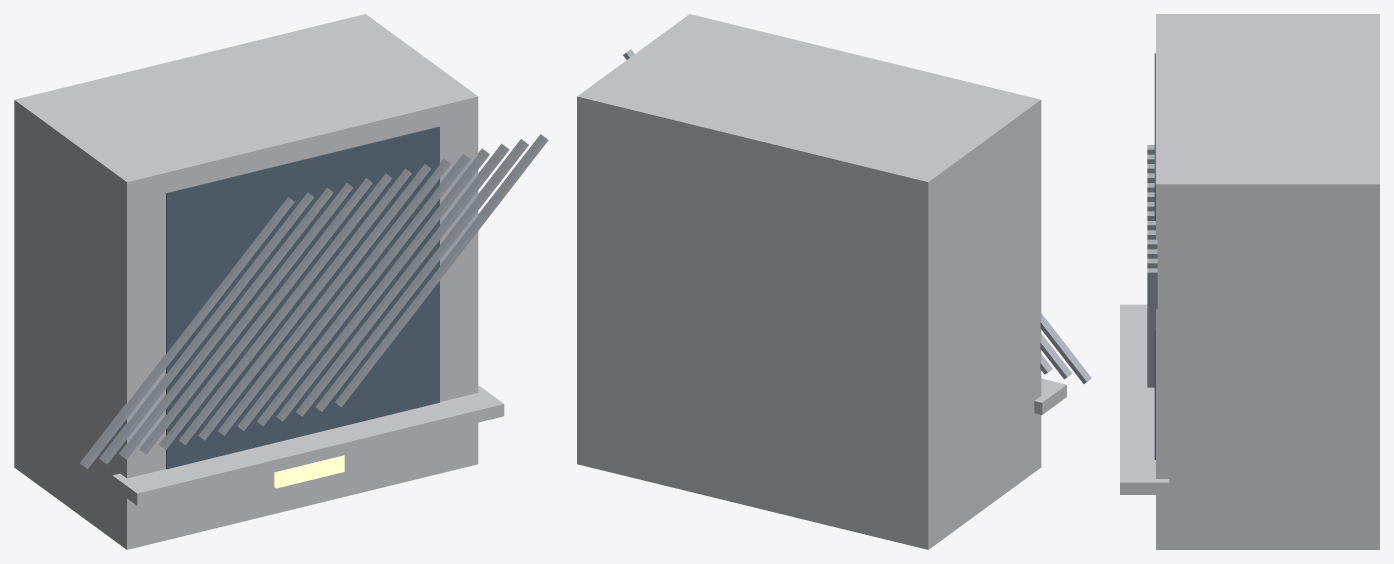
Rendered from building_hia_tower.glb.
3 renders of one model, left to right at view 1: azimuth 30°, elevation 25°; view 2: azimuth 150°, elevation 25°; view 3: azimuth 270°, elevation 25°, orthographic.
Parts seen in each view (by area): view 1: HIA_Tower_Main, HIA_Glass_Facade, HIA_Ground_Canopy, HIA_Diagonal_Fin_13, HIA_Diagonal_Fin_0, HIA_Diagonal_Fin_12, HIA_Diagonal_Fin_1, HIA_Diagonal_Fin_11, HIA_Diagonal_Fin_2, HIA_Diagonal_Fin_10, HIA_Diagonal_Fin_3, HIA_Diagonal_Fin_9 (+6 smaller); view 2: HIA_Tower_Main, HIA_Diagonal_Fin_0, HIA_Ground_Canopy; view 3: HIA_Tower_Main, HIA_Ground_Canopy, HIA_Diagonal_Fin_13, HIA_Glass_Facade.
Boxes of the visible parts, box(x1,y1,x2,y2) form: HIA_Tower_Main: box(14, 14, 478, 549); HIA_Glass_Facade: box(166, 126, 439, 469); HIA_Ground_Canopy: box(112, 386, 504, 505); HIA_Diagonal_Fin_13: box(335, 134, 548, 406); HIA_Diagonal_Fin_0: box(80, 197, 294, 468); HIA_Diagonal_Fin_12: box(315, 139, 528, 411); HIA_Diagonal_Fin_1: box(99, 192, 314, 464); HIA_Diagonal_Fin_11: box(296, 143, 509, 416); HIA_Diagonal_Fin_2: box(119, 187, 333, 459); HIA_Diagonal_Fin_10: box(276, 148, 489, 421); HIA_Diagonal_Fin_3: box(139, 183, 352, 454); HIA_Diagonal_Fin_9: box(257, 154, 470, 426); HIA_Tower_Main: box(577, 14, 1041, 549); HIA_Diagonal_Fin_0: box(1040, 313, 1091, 383); HIA_Ground_Canopy: box(1034, 378, 1066, 414); HIA_Tower_Main: box(1156, 14, 1379, 549); HIA_Ground_Canopy: box(1120, 304, 1169, 494); HIA_Diagonal_Fin_13: box(1147, 268, 1157, 387); HIA_Glass_Facade: box(1154, 53, 1155, 459).
Size of the model in its own units: 23.76 by 18 by 11.6.
